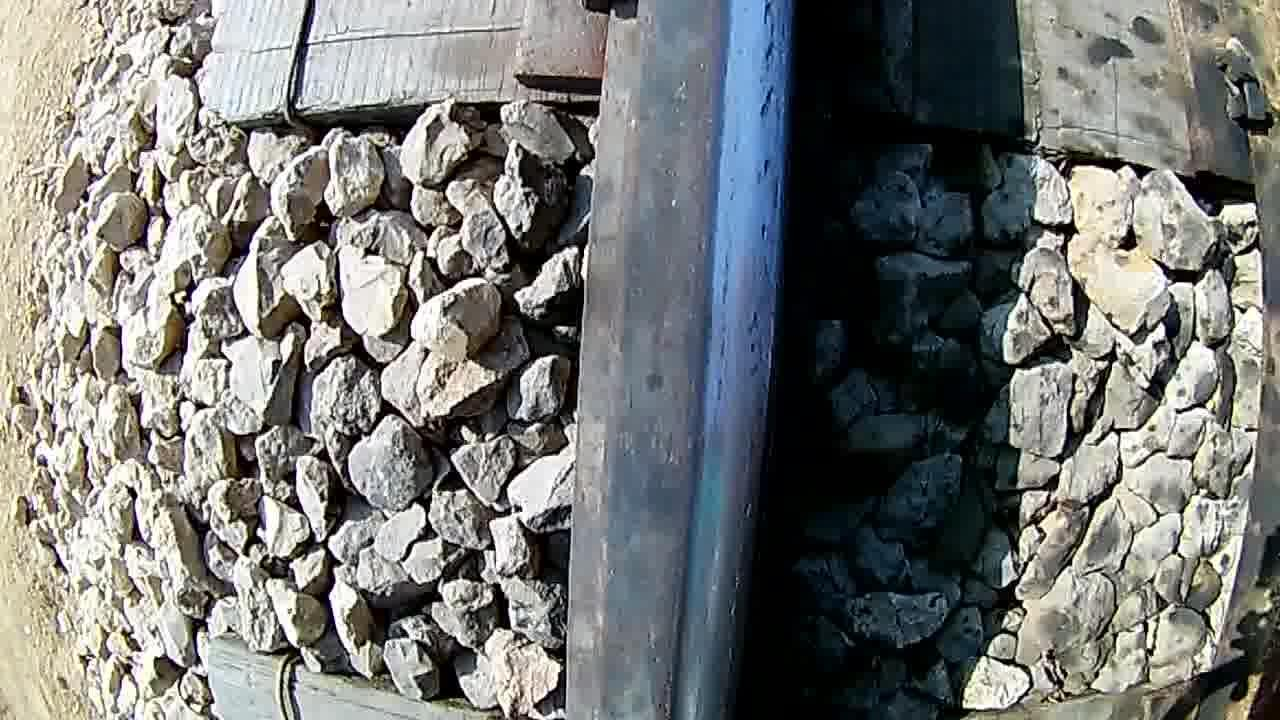crack: (620, 0, 793, 720)
